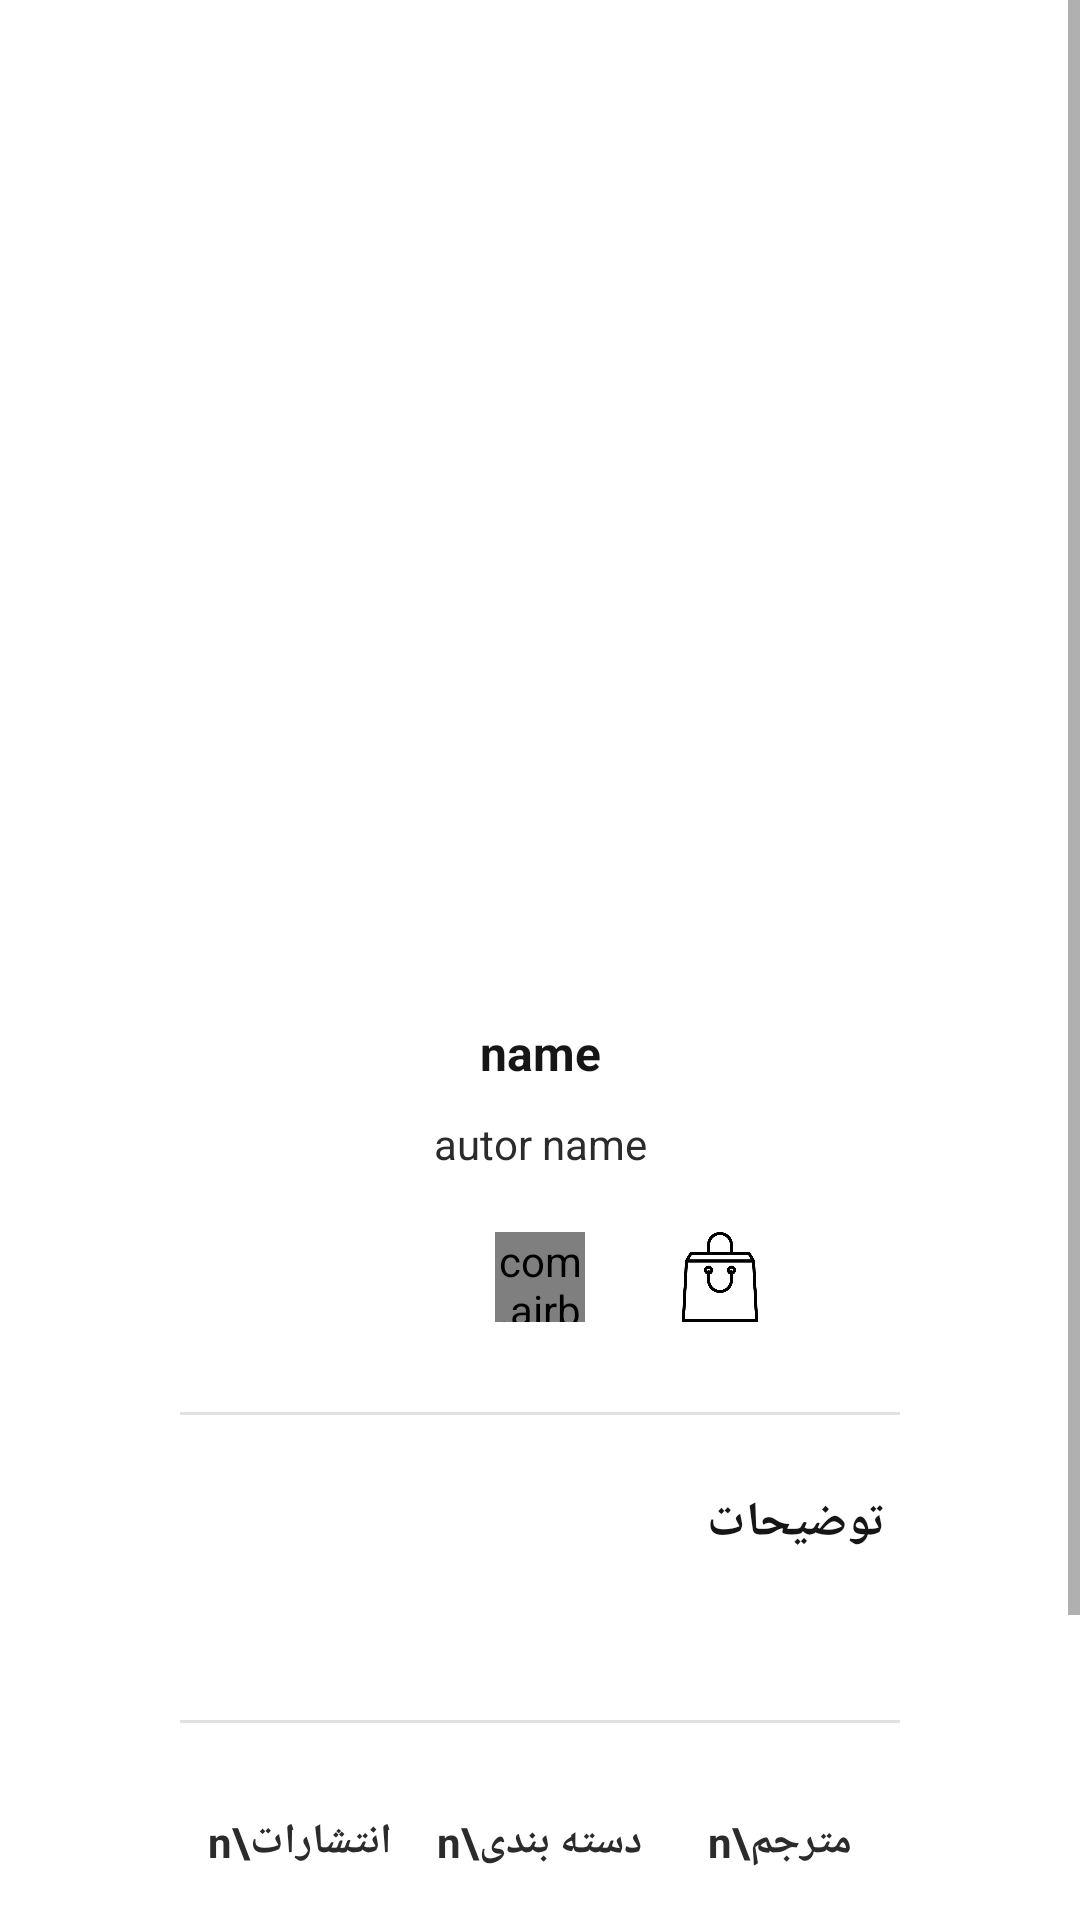

Icon click points for this 1080w x 1920h phone screenshot, format (x=x, y=y):
bag: (x=720, y=1277)
